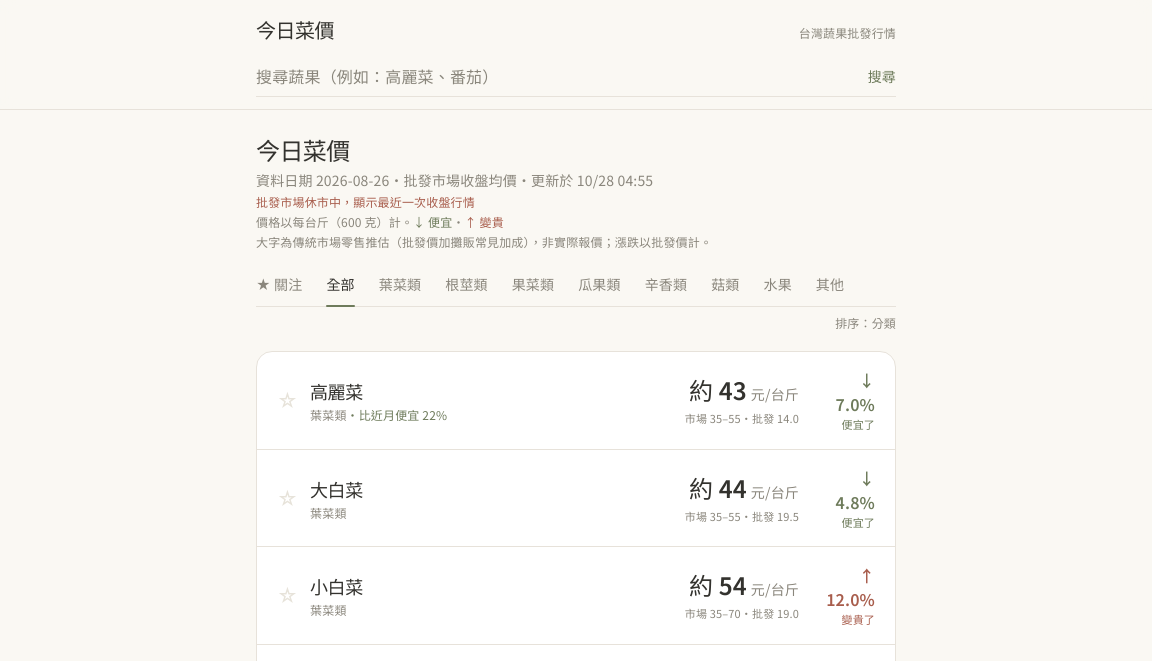
it: App (board-first) › clears the search back to the full board
Expected: the heading "高麗菜" is shown, [310,378,363,404]
Type "番茄" into the search field with placeholder "搜尋蔬果（例如：高麗菜、番茄）" at (556, 76), box [256,56,856,96]
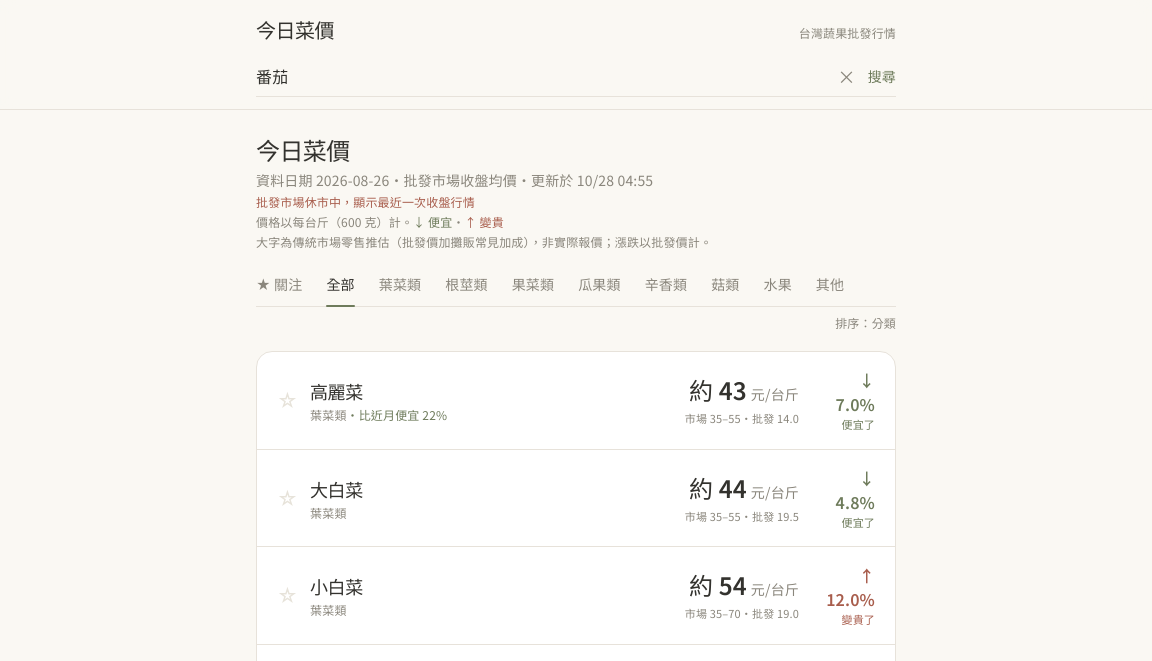
Click the button "搜尋" at (882, 76), box [868,66,896,86]
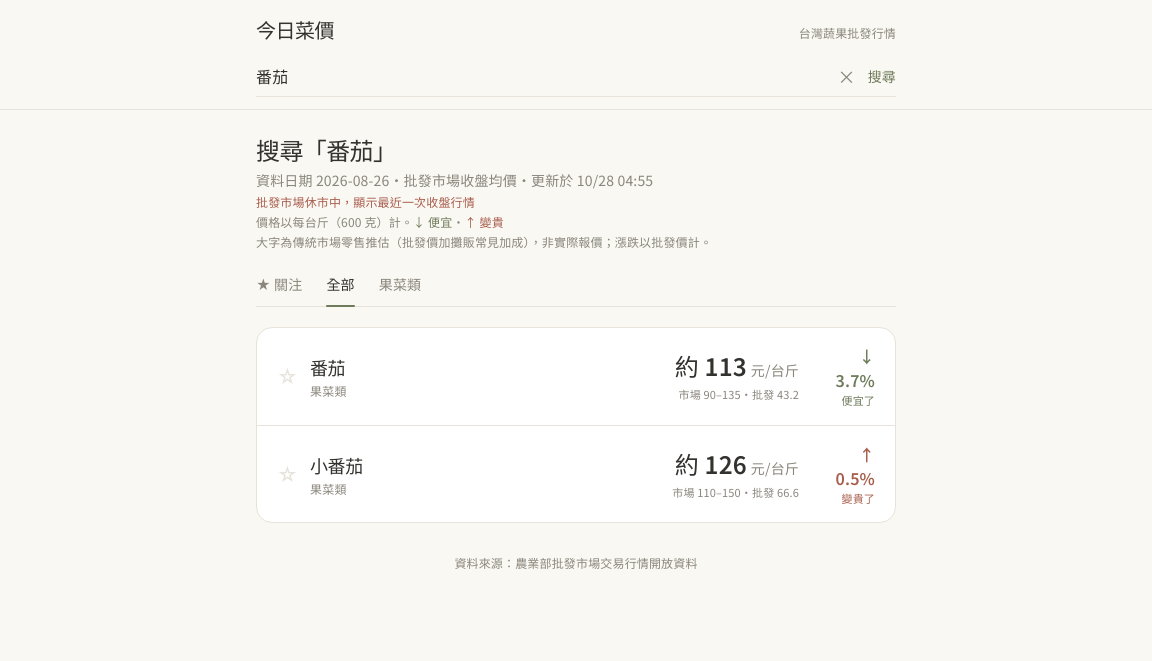
Result: the button "高麗菜" is gone
Click the button named "清除搜尋" at (847, 76), box [838,67,856,85]
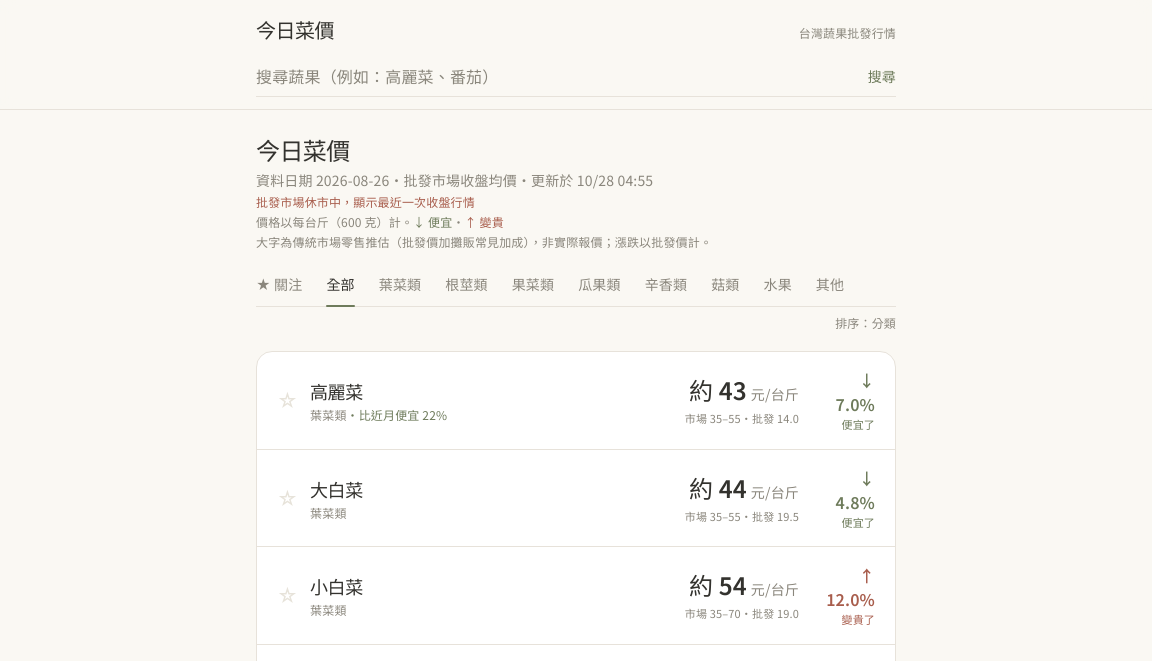
Result: the heading "高麗菜" is shown at [310,378,363,404]
Result: the 2nd heading "今日菜價" is shown at [256,132,350,167]
